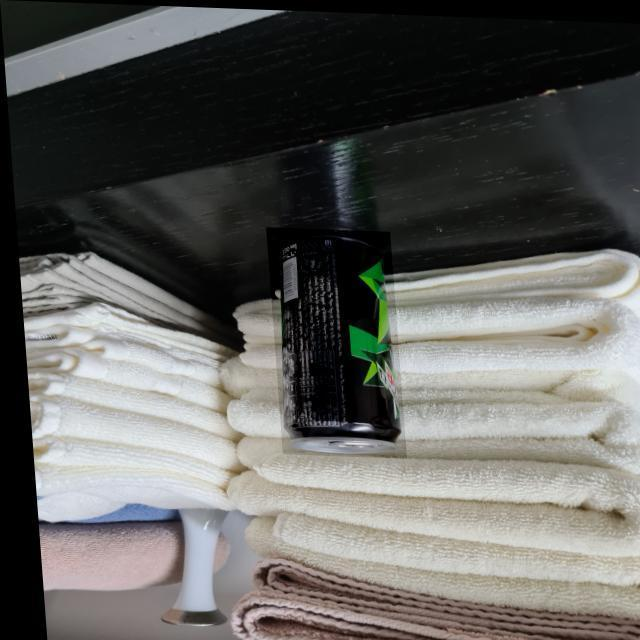trash: (272, 222, 402, 460)
